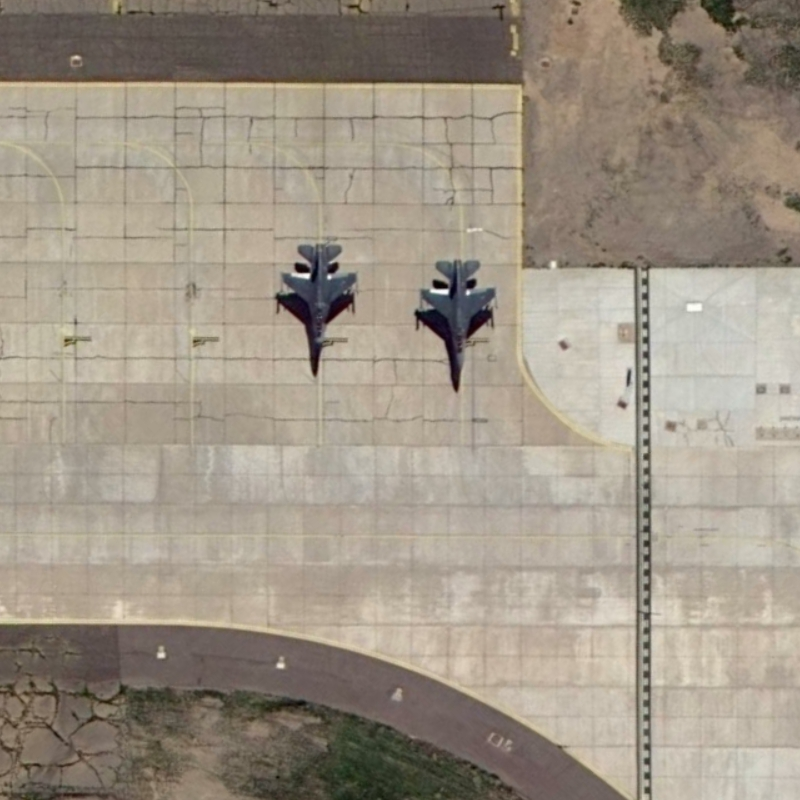A5: (410, 248, 499, 378), (273, 230, 364, 354)
